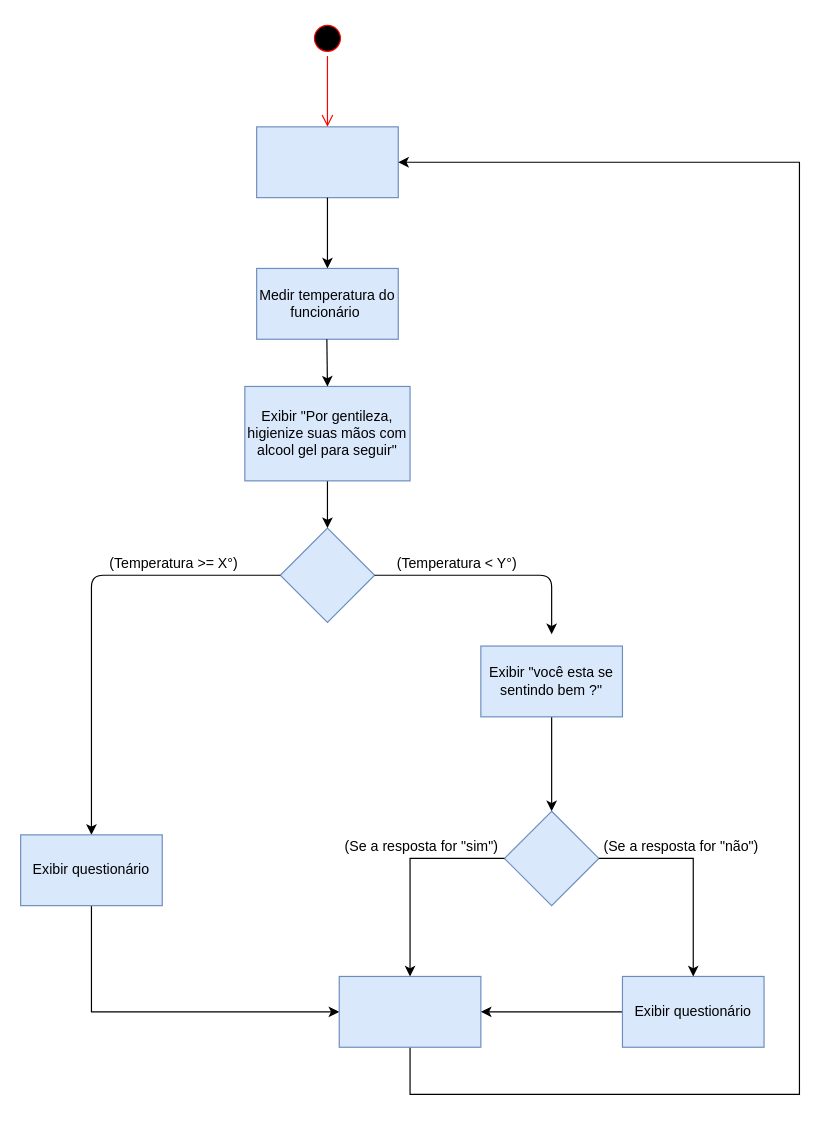
Some shapes in this 830 by 1125 pixel diagram are drawn without their labels. Here are the shapes that lost their labels. From the top down, the box of each, then its label:
(255, 126, 398, 198): Reconhecer funcionário
(338, 975, 481, 1047): Liberar acesso a empresa
